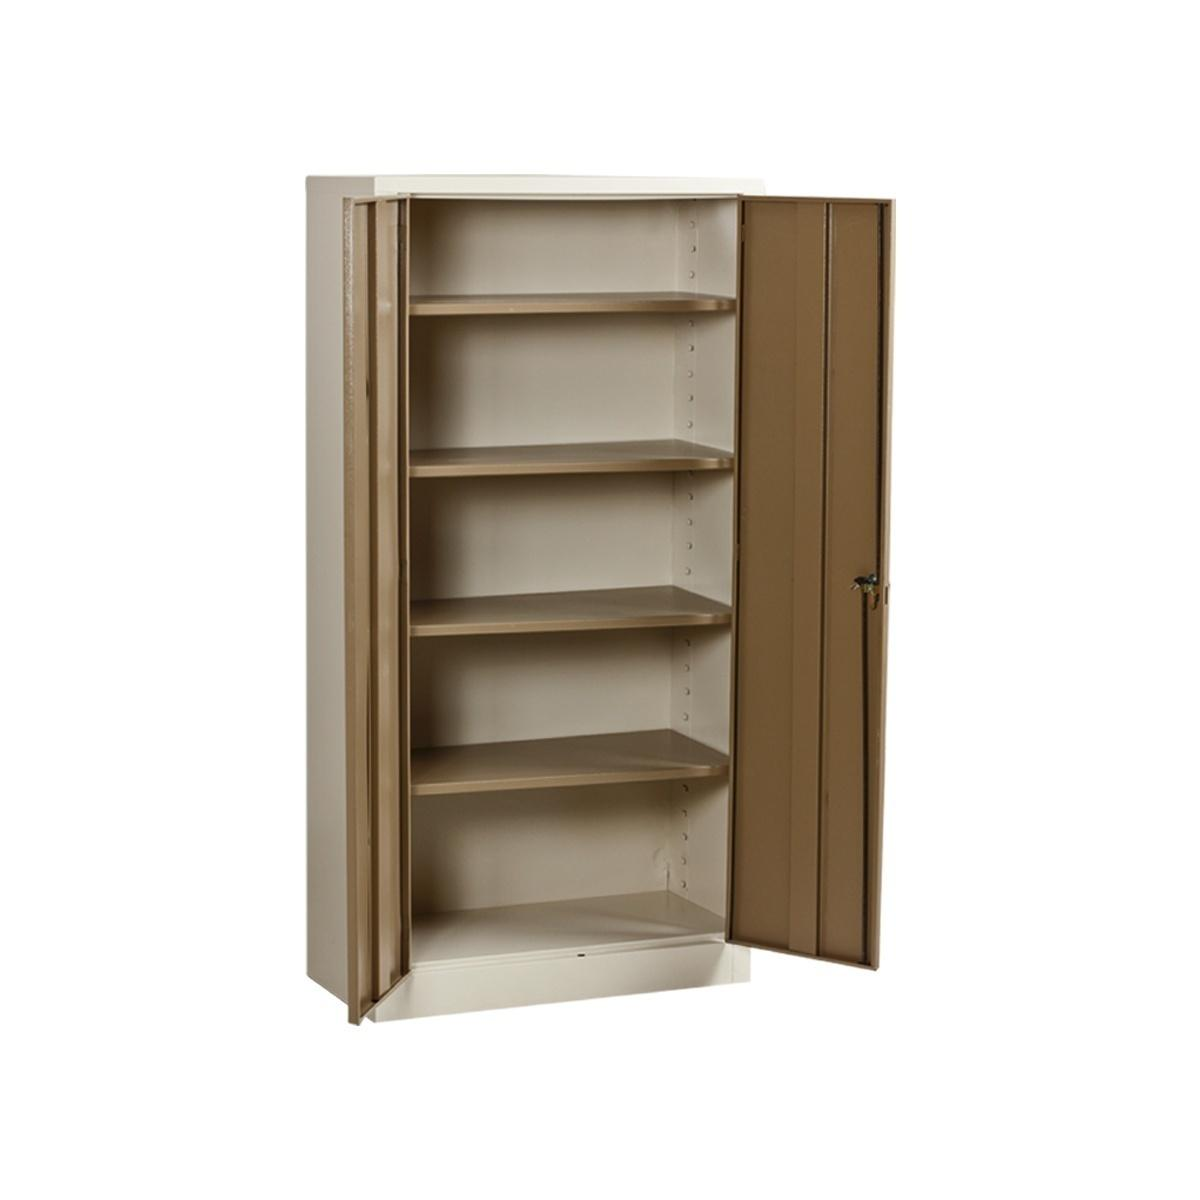cabinet_door: (342, 200, 405, 1004), (824, 203, 878, 943)
